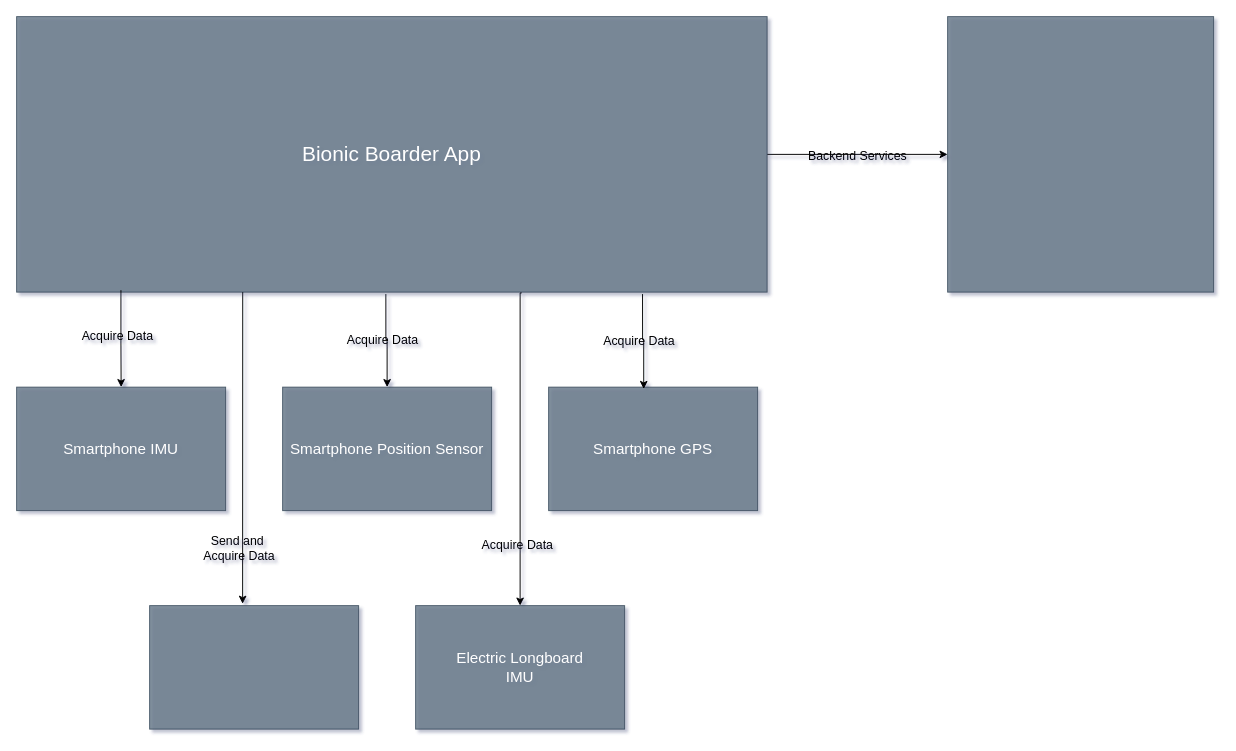
Some shapes in this 1236 by 751 pixel diagram are drawn without their labels. The box of each missing label's shape, as (x1, y1, x2, y2) in pixels:
AWS Cloud Services: (947, 16, 1214, 292)
Electric Longboard VESC: (149, 605, 359, 729)
